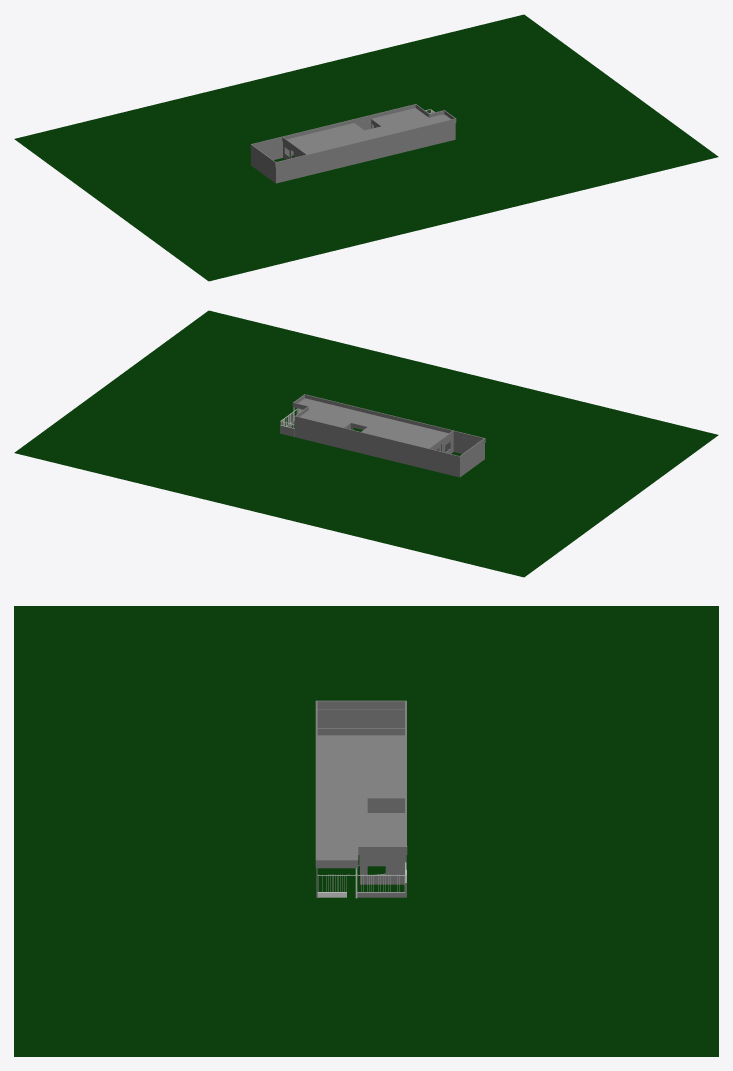
File: uwu.fbx
The picture shows the model from 3 angles, top to bottom: view 1: azimuth 30°, elevation 25°; view 2: azimuth 150°, elevation 25°; view 3: azimuth 270°, elevation 25°; orthographic projection. The views are drawn at different scales.
Parts seen in each view (by area): view 1: Plano, Cubo.007, Cubo.021, Cubo.025, Cubo.026, Cubo.010, Cubo.020; view 2: Plano, Cubo.021, Cubo.010, Cubo.026, Cubo.025; view 3: Plano, Cubo.021, Cubo.020, Cubo.004, Cubo.027, Cubo.018.
Boxes of the visible parts, left/top/right/bottom form: Plano: left=14, top=14, right=718, bottom=281; Cubo.007: left=276, top=123, right=455, bottom=183; Cubo.021: left=287, top=108, right=450, bottom=154; Cubo.025: left=275, top=118, right=455, bottom=166; Cubo.026: left=250, top=104, right=415, bottom=148; Cubo.010: left=251, top=119, right=373, bottom=164; Cubo.020: left=251, top=149, right=276, bottom=183; Plano: left=14, top=310, right=718, bottom=577; Cubo.021: left=298, top=398, right=448, bottom=448; Cubo.010: left=316, top=426, right=460, bottom=477; Cubo.026: left=295, top=416, right=460, bottom=460; Cubo.025: left=305, top=394, right=485, bottom=442; Plano: left=14, top=606, right=718, bottom=1056; Cubo.021: left=317, top=735, right=404, bottom=859; Cubo.020: left=317, top=709, right=404, bottom=728; Cubo.004: left=360, top=855, right=405, bottom=884; Cubo.027: left=317, top=700, right=404, bottom=709; Cubo.018: left=317, top=728, right=406, bottom=735.
Size of the model in its own units: 39145 by 1578 by 25874.
